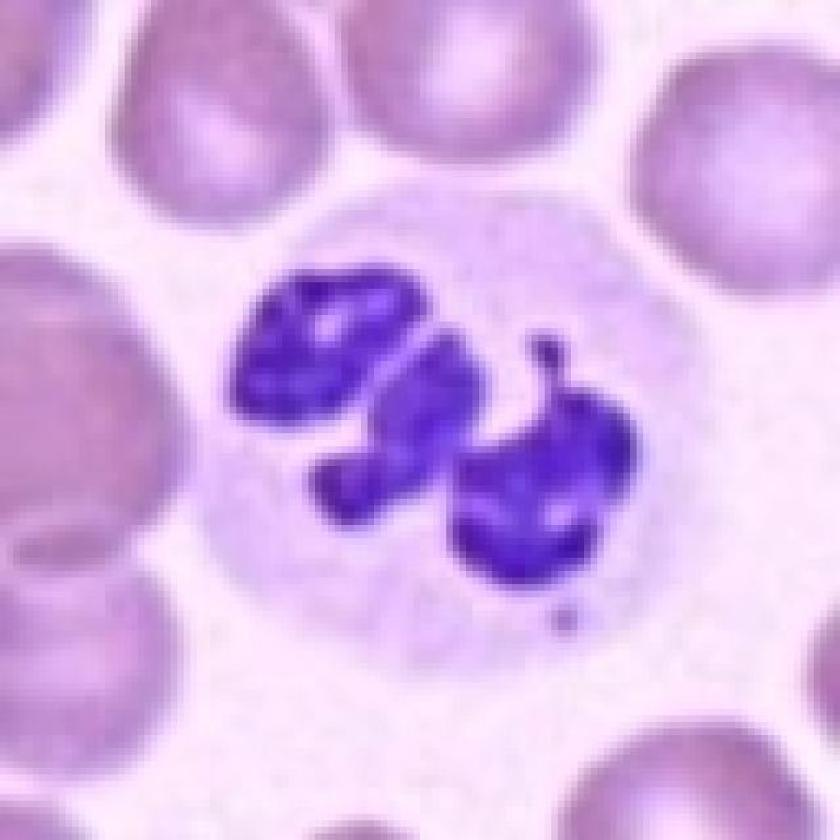neutrophil: (160, 172, 729, 676)
